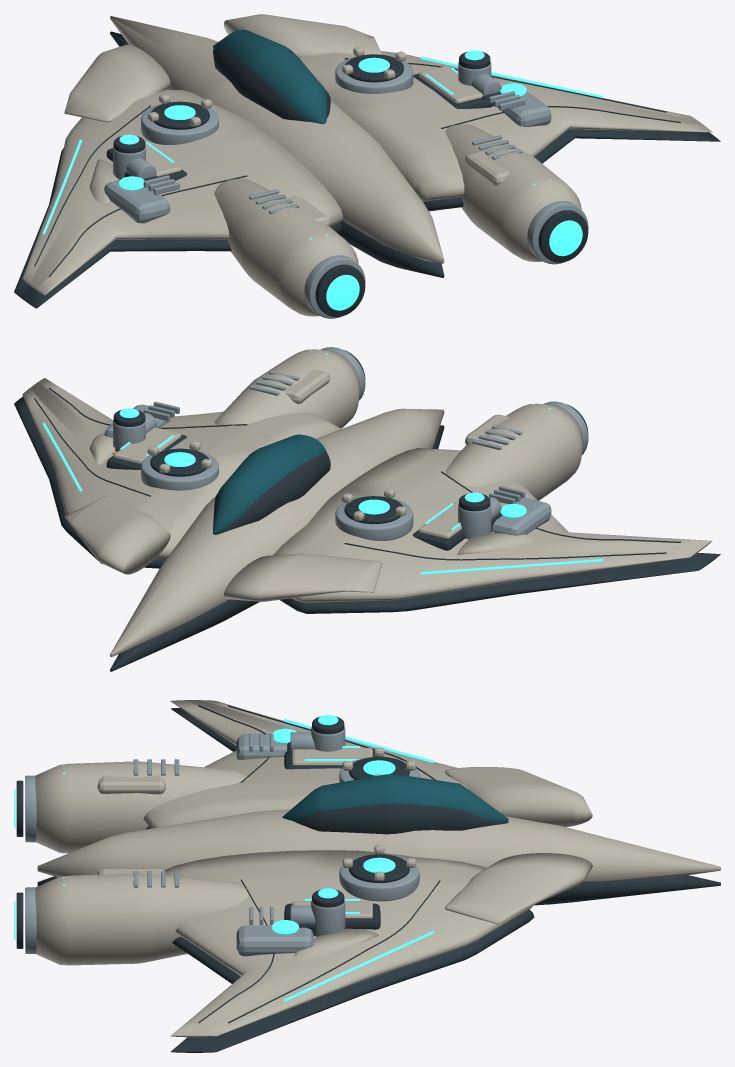
The model's file is escort-2.glb.
3 renders of one model, top to bottom at view 1: azimuth 30°, elevation 25°; view 2: azimuth 150°, elevation 25°; view 3: azimuth 270°, elevation 25°, orthographic. The views are drawn at different scales.
Visible parts, largest first — view 1: SM_Wing_Left, SM_Hull, SM_Wing_Right, SM_Engine_Left, SM_Engine_Right, SM_Shield_Left, SM_Shield_Right, SM_Stage03, SM_Stage04, SM_Bay_Right, SM_Stage01, SM_Stage02 (+1 smaller); view 2: SM_Wing_Left, SM_Hull, SM_Wing_Right, SM_Engine_Left, SM_Engine_Right, SM_Shield_Left, SM_Shield_Right, SM_Stage04, SM_Stage03, SM_Stage02, SM_Bay_Right, SM_Bay_Left; view 3: SM_Wing_Right, SM_Hull, SM_Wing_Left, SM_Engine_Right, SM_Engine_Left, SM_Shield_Right, SM_Stage04, SM_Stage03, SM_Shield_Left, SM_Stage02, SM_Bay_Left, SM_Stage01 (+1 smaller).
Part boxes in pixels (x1,y1,x2,y2): SM_Wing_Left: (14,44,343,308); SM_Hull: (104,16,551,277); SM_Wing_Right: (223,14,720,211); SM_Engine_Left: (214,178,365,318); SM_Engine_Right: (445,124,588,264); SM_Shield_Left: (119,94,218,190); SM_Shield_Right: (335,47,526,96); SM_Stage03: (143,91,525,226); SM_Stage04: (113,50,491,179); SM_Bay_Right: (418,66,483,103); SM_Stage01: (124,74,501,180); SM_Stage02: (89,80,508,203); SM_Wing_Left: (223,448,720,613); SM_Hull: (104,404,551,671); SM_Wing_Right: (14,378,340,574); SM_Engine_Left: (445,401,588,500); SM_Engine_Right: (214,347,365,428); SM_Shield_Left: (335,488,526,540); SM_Shield_Right: (141,441,218,490); SM_Stage04: (113,408,491,539); SM_Stage03: (143,369,525,504); SM_Stage02: (89,433,532,554); SM_Bay_Right: (113,427,181,464); SM_Bay_Left: (418,501,461,538); SM_Wing_Right: (164,850,592,1052); SM_Hull: (37,734,720,956); SM_Wing_Left: (143,700,592,829); SM_Engine_Right: (14,871,248,965); SM_Engine_Left: (14,759,248,853); SM_Shield_Right: (272,845,419,934); SM_Stage04: (311,715,345,936); SM_Stage03: (97,733,273,924); SM_Shield_Left: (272,728,419,782); SM_Stage02: (294,744,378,958); SM_Bay_Left: (292,748,372,765); SM_Stage01: (287,732,316,936).
Size of the model in its own units: 9.51 by 1.65 by 8.28.
